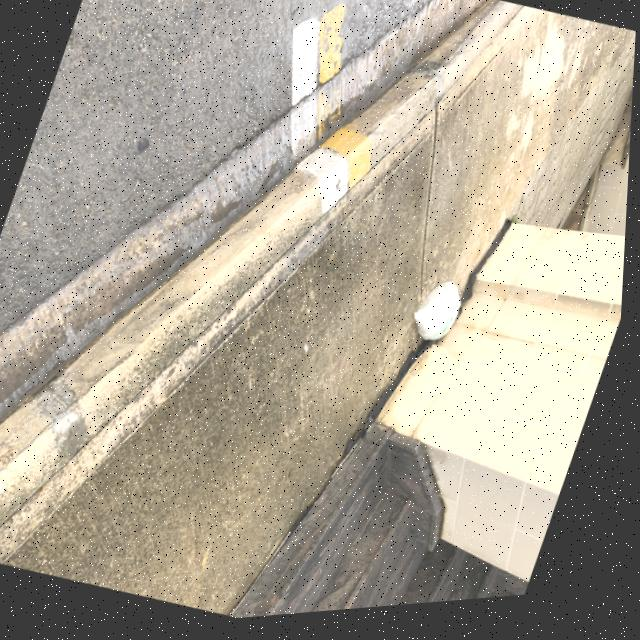Organic Waste -White Bag-: (401, 275, 480, 368)
